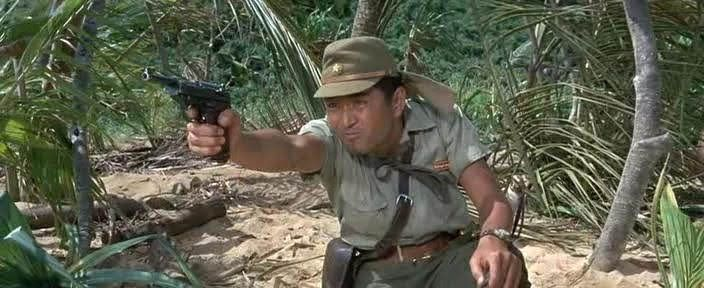gun: (131, 55, 252, 168)
